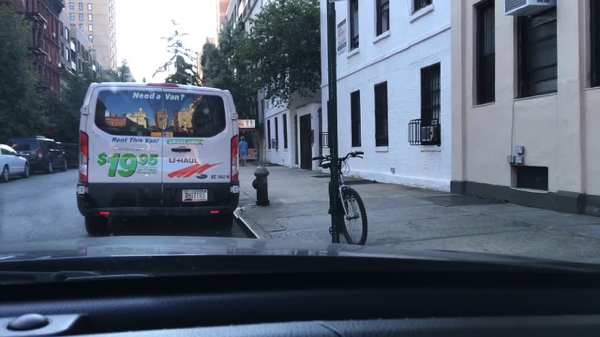bike: (312, 152, 369, 245)
car: (76, 82, 240, 235), (7, 135, 69, 174), (0, 143, 31, 184), (62, 142, 79, 169)
person: (239, 136, 248, 167)
